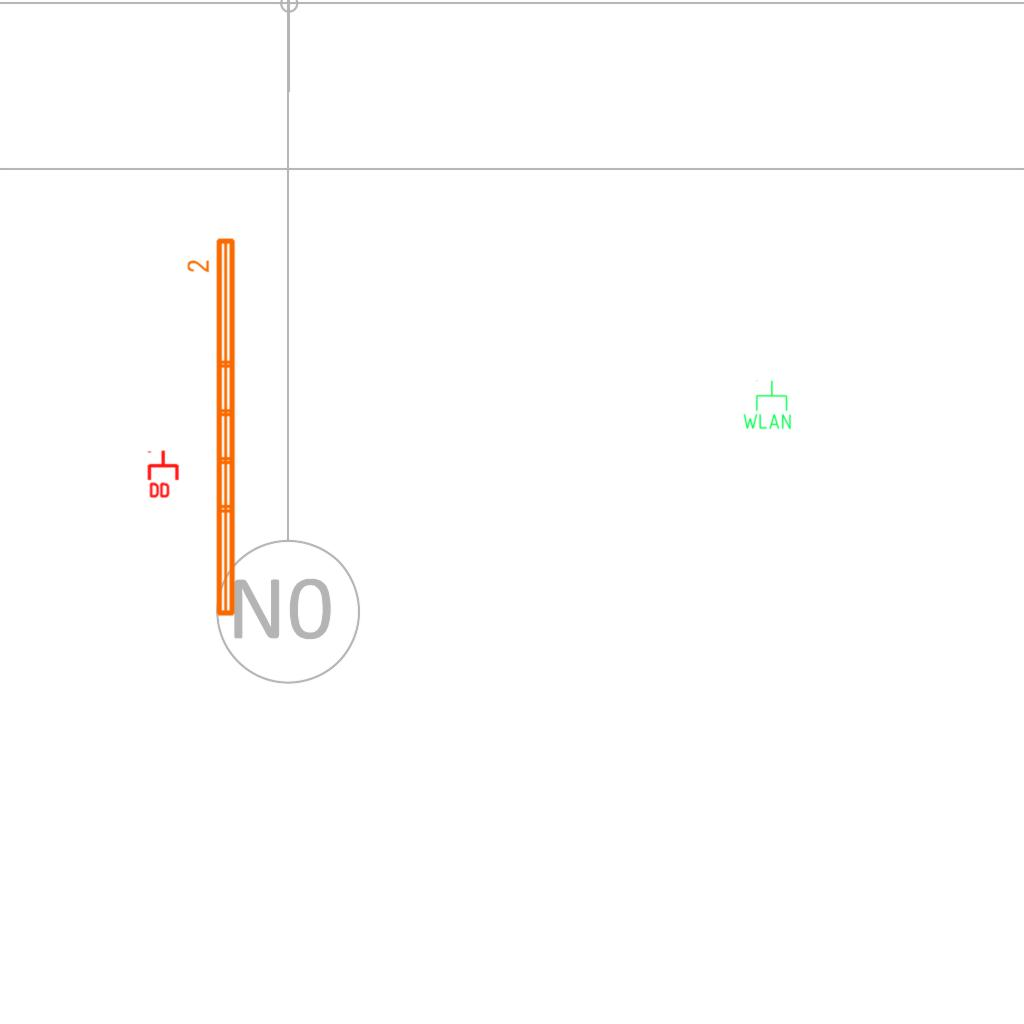Ambulanz_Pendelleuchte_LED: (185, 234, 241, 621)
Datenanschluss_zweifach: (147, 449, 181, 500)
WLAN: (741, 379, 793, 431)
